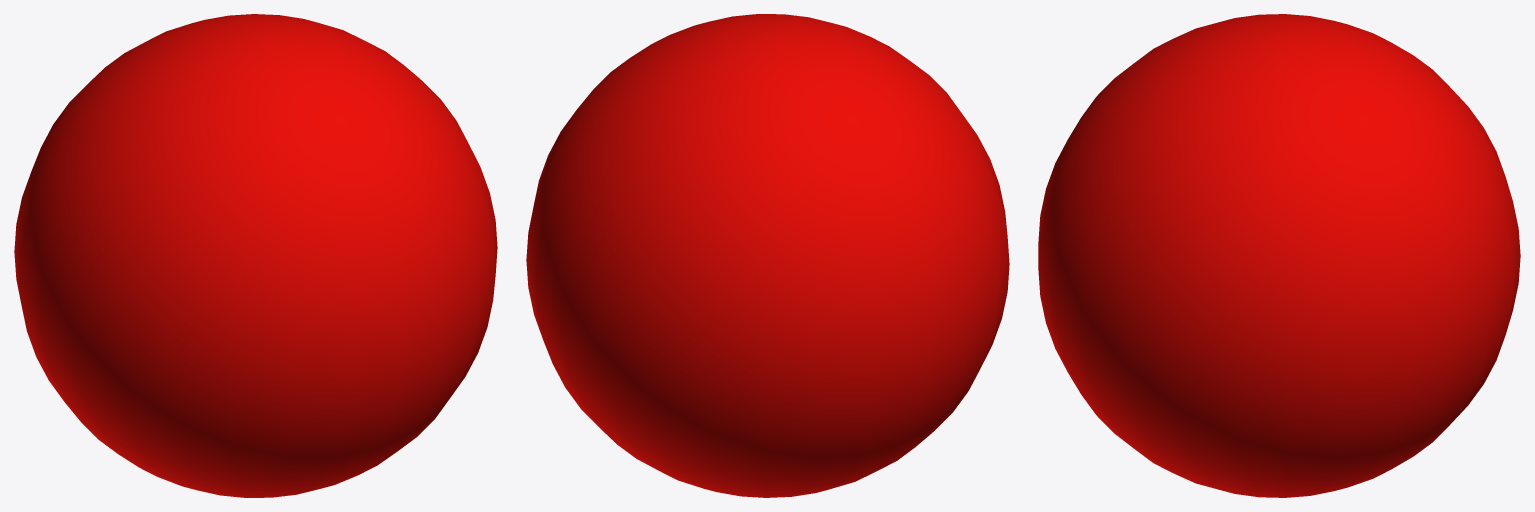
3 views of the same model, side by side, from view 1: azimuth 30°, elevation 25°; view 2: azimuth 150°, elevation 25°; view 3: azimuth 270°, elevation 25° (orthographic).
Visible parts, largest first — view 1: Sphere; view 2: Sphere; view 3: Sphere.
Part boxes in pixels (x1,y1,x2,y2): Sphere: [14, 14, 497, 497]; Sphere: [526, 14, 1009, 497]; Sphere: [1038, 14, 1520, 497].
Size of the model in its own units: 1.98 by 1.98 by 1.97.
